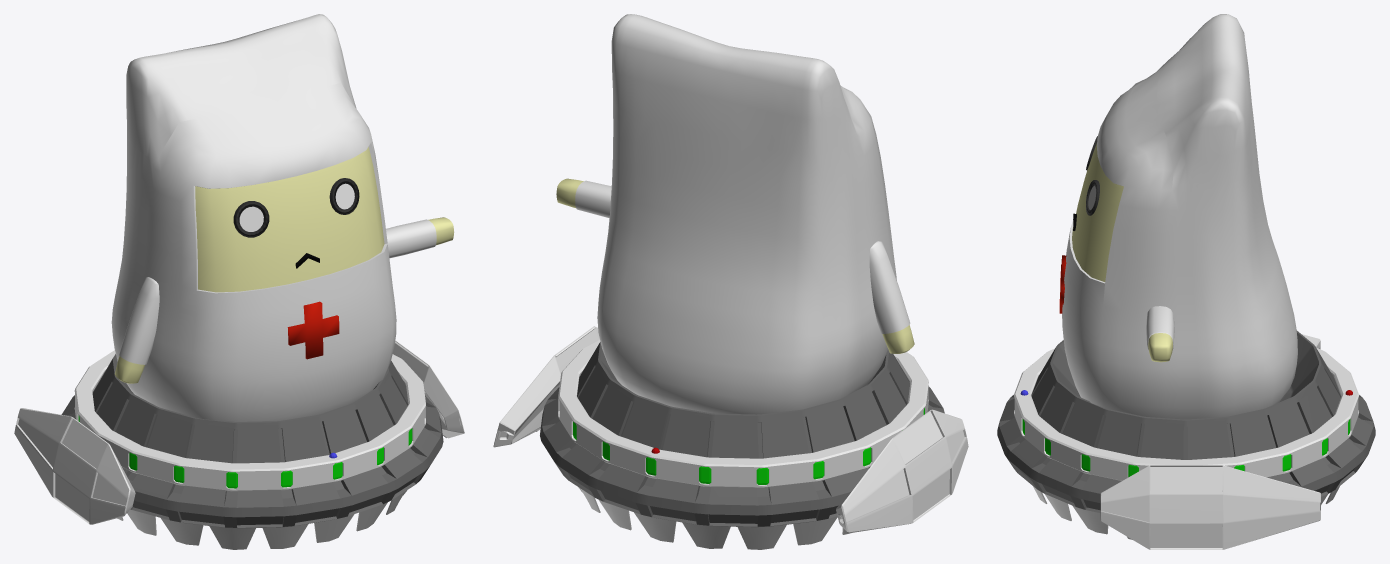
Rendered from alienMedic_pointingLeft_wHover2.0.fbx.
3 renders of one model, left to right at view 1: azimuth 30°, elevation 25°; view 2: azimuth 150°, elevation 25°; view 3: azimuth 270°, elevation 25°, orthographic. The views are drawn at different scales.
Visible parts, largest first — view 1: medic_pointingLeft; view 2: medic_pointingLeft; view 3: medic_pointingLeft.
Part boxes in pixels (box(x1,y1,x2,y2)): medic_pointingLeft: box(14, 14, 464, 549); medic_pointingLeft: box(493, 14, 968, 549); medic_pointingLeft: box(997, 14, 1375, 549).
Size of the model in its own units: 187 by 211 by 171.
